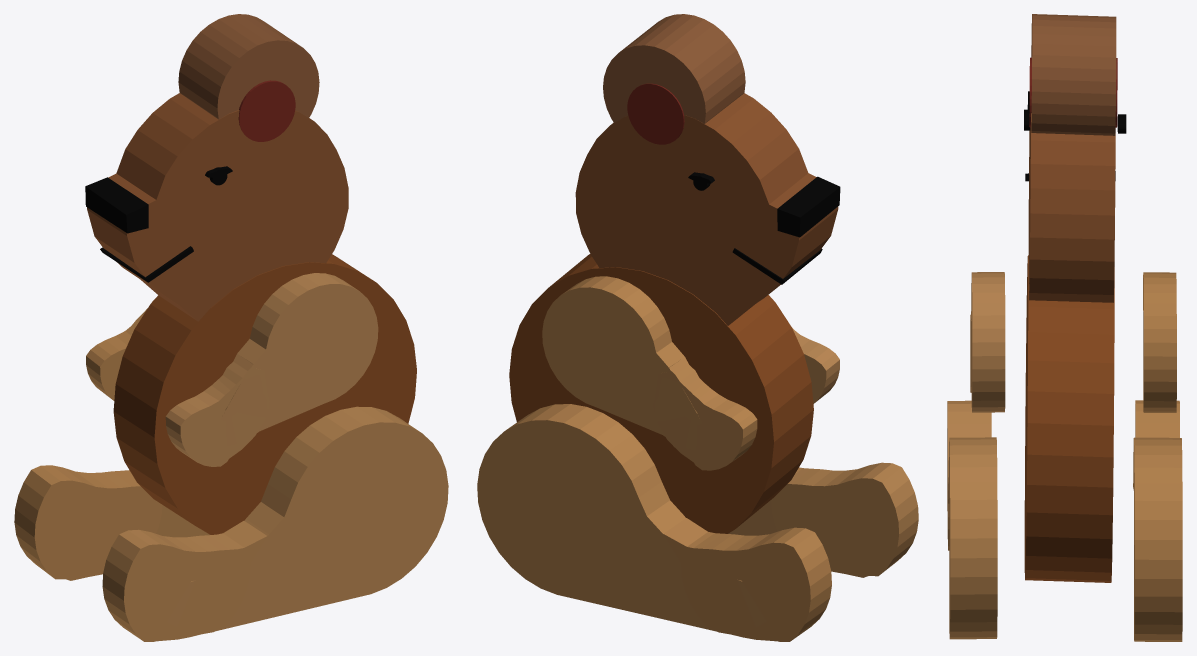
File: NewTeddy.fbx
3 views of the same model, side by side, from view 1: azimuth 30°, elevation 25°; view 2: azimuth 150°, elevation 25°; view 3: azimuth 270°, elevation 25° (orthographic). The views are drawn at different scales.
Visible parts, largest first — view 1: Body, left leg, right arm.001, rightleg, right arm; view 2: Body, rightleg, right arm, left leg, right arm.001; view 3: Body, left leg, rightleg, right arm.001, right arm.
Part boxes in pixels (box(x1,y1,x2,y2)): Body: box(85, 14, 416, 534); left leg: box(102, 406, 448, 641); right arm.001: box(165, 273, 378, 466); rightleg: box(14, 465, 209, 580); right arm: box(86, 299, 154, 400); Body: box(509, 14, 840, 533); rightleg: box(477, 404, 831, 641); right arm: box(542, 276, 757, 470); left leg: box(728, 462, 918, 577); right arm.001: box(792, 327, 839, 403); Body: box(1024, 14, 1126, 582); left leg: box(947, 400, 997, 639); rightleg: box(1133, 400, 1182, 641); right arm.001: box(970, 272, 1005, 412); right arm: box(1143, 272, 1176, 412).
Bounding box in the file's own units: 405 × 631 × 232.
